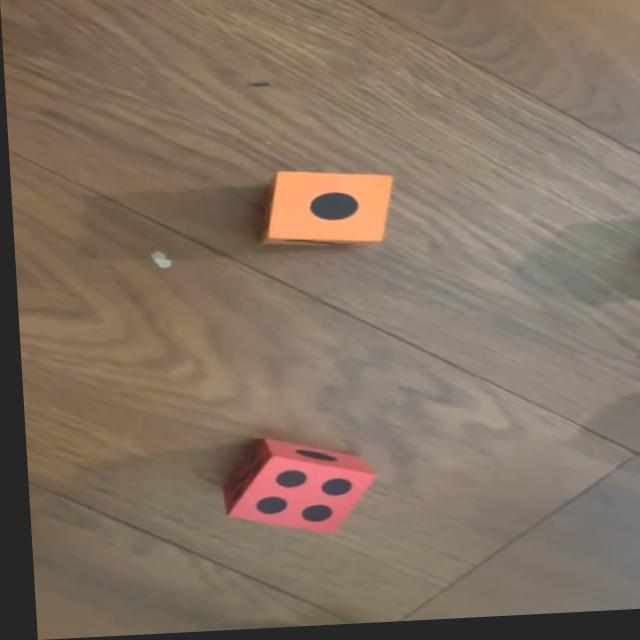red_block: (216, 437, 371, 541)
